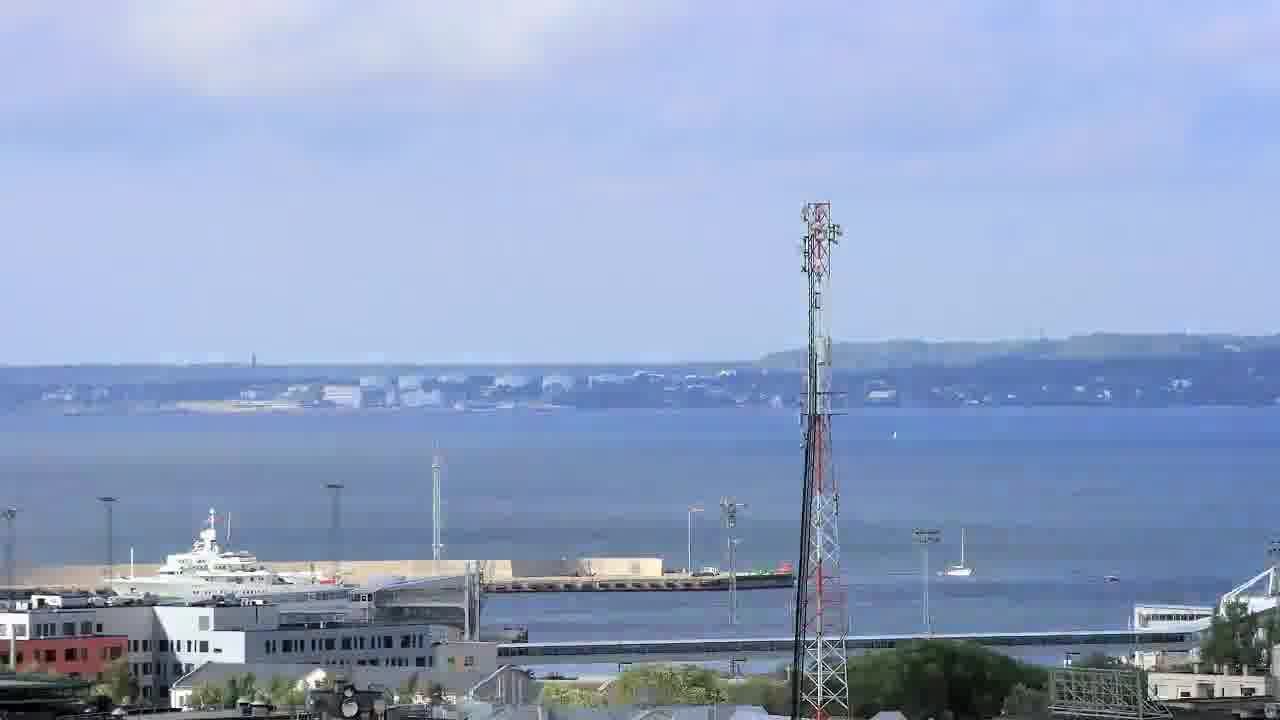type-0: (929, 521, 987, 600)
type-3: (72, 492, 370, 608)
